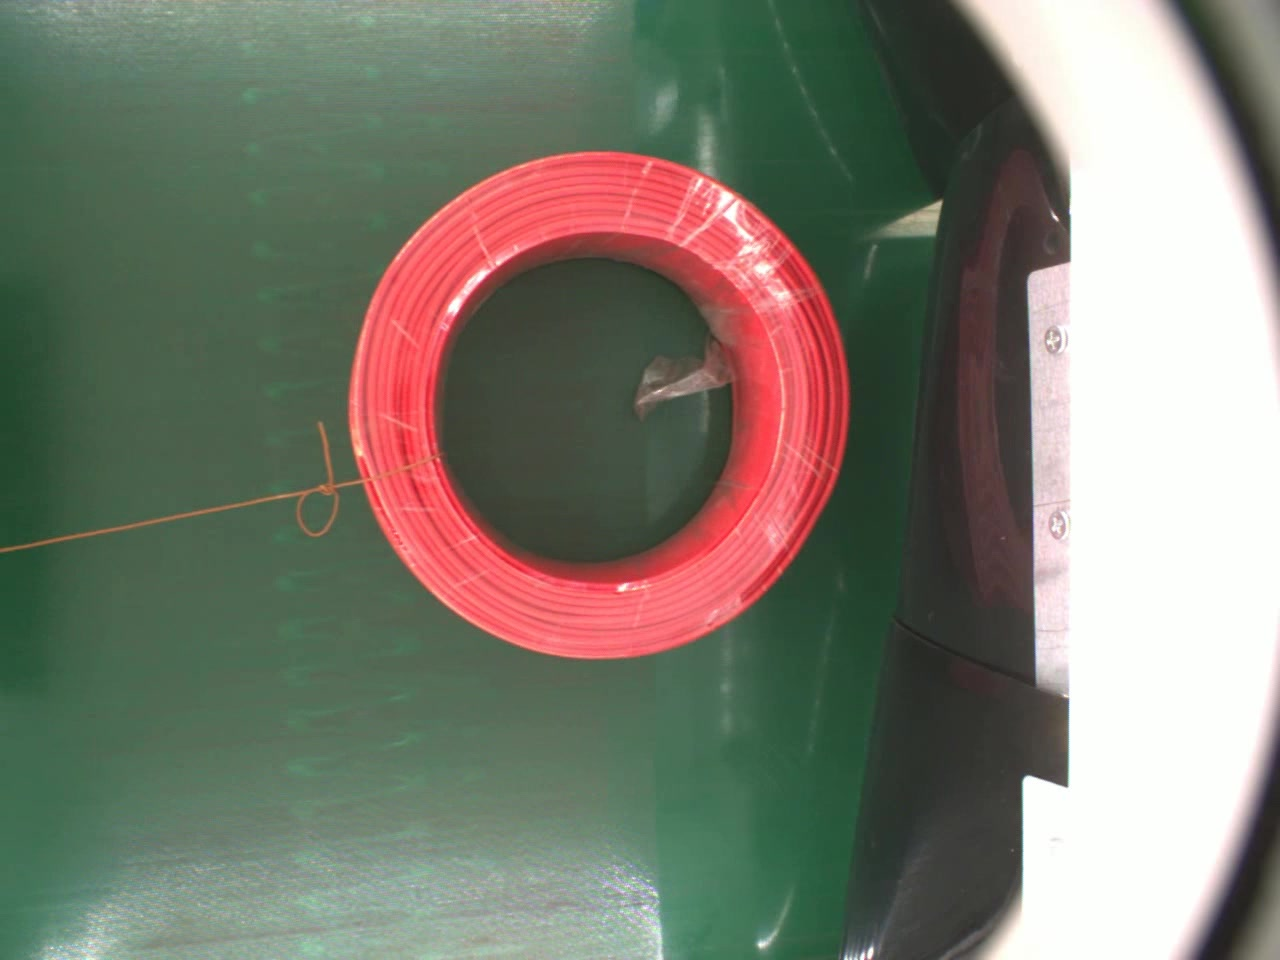red: (344, 146, 857, 667)
